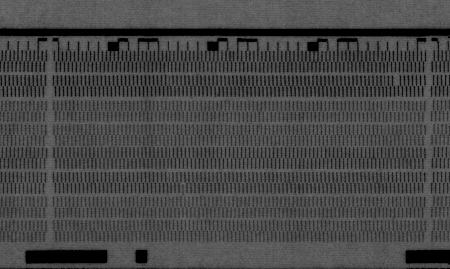Broken hole: (391, 74, 403, 88)
Oblique printing: (177, 181, 189, 195)
